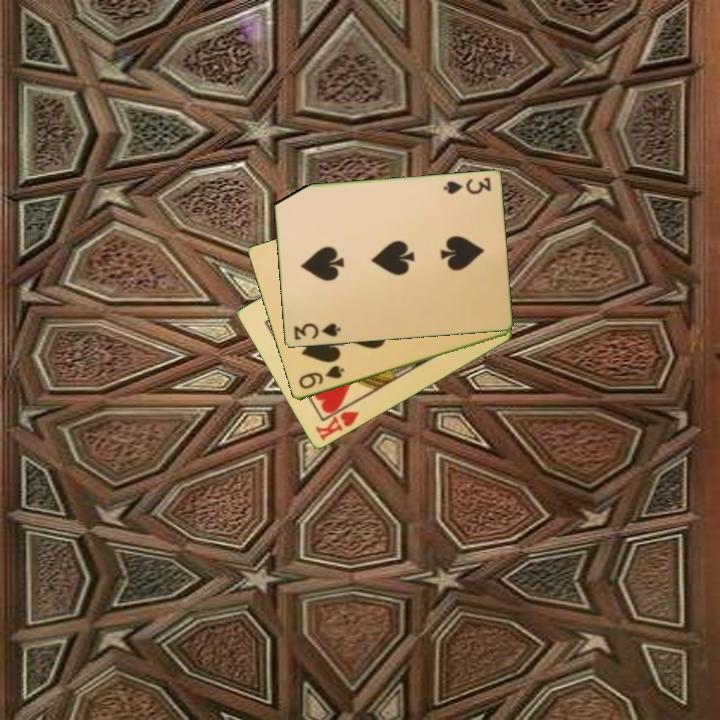3s: (440, 174, 493, 198), (290, 320, 343, 343)
9s: (295, 362, 347, 392)
Kh: (312, 399, 362, 444)
